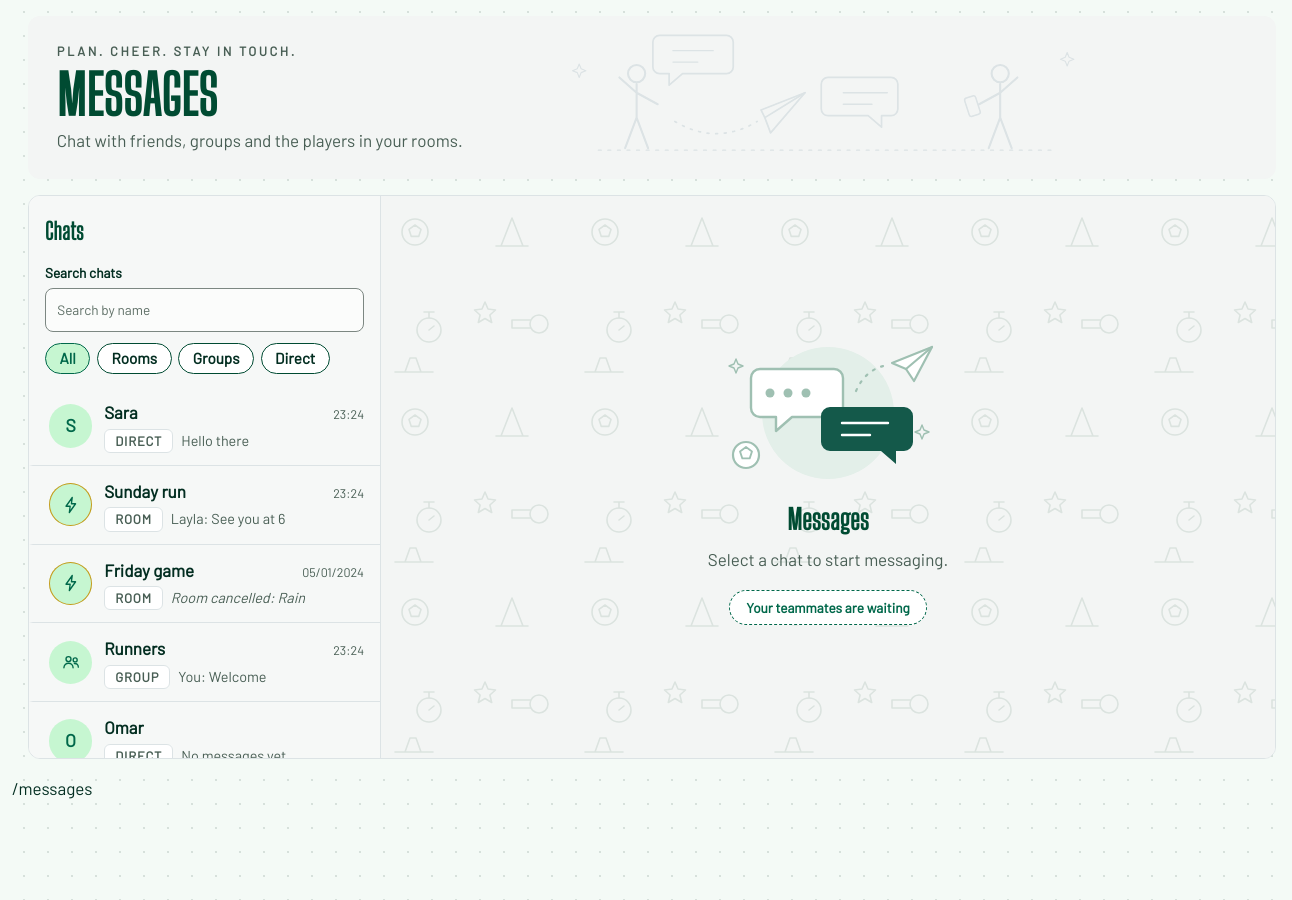
Inbox filters › combines the type and the search and says when nothing matches
This screenshot has width=1292, height=900.
Check: the text "Sara" is shown, box [104,399,138,426]
Click the button "Direct".
click(295, 359)  # box [260,343,330,374]
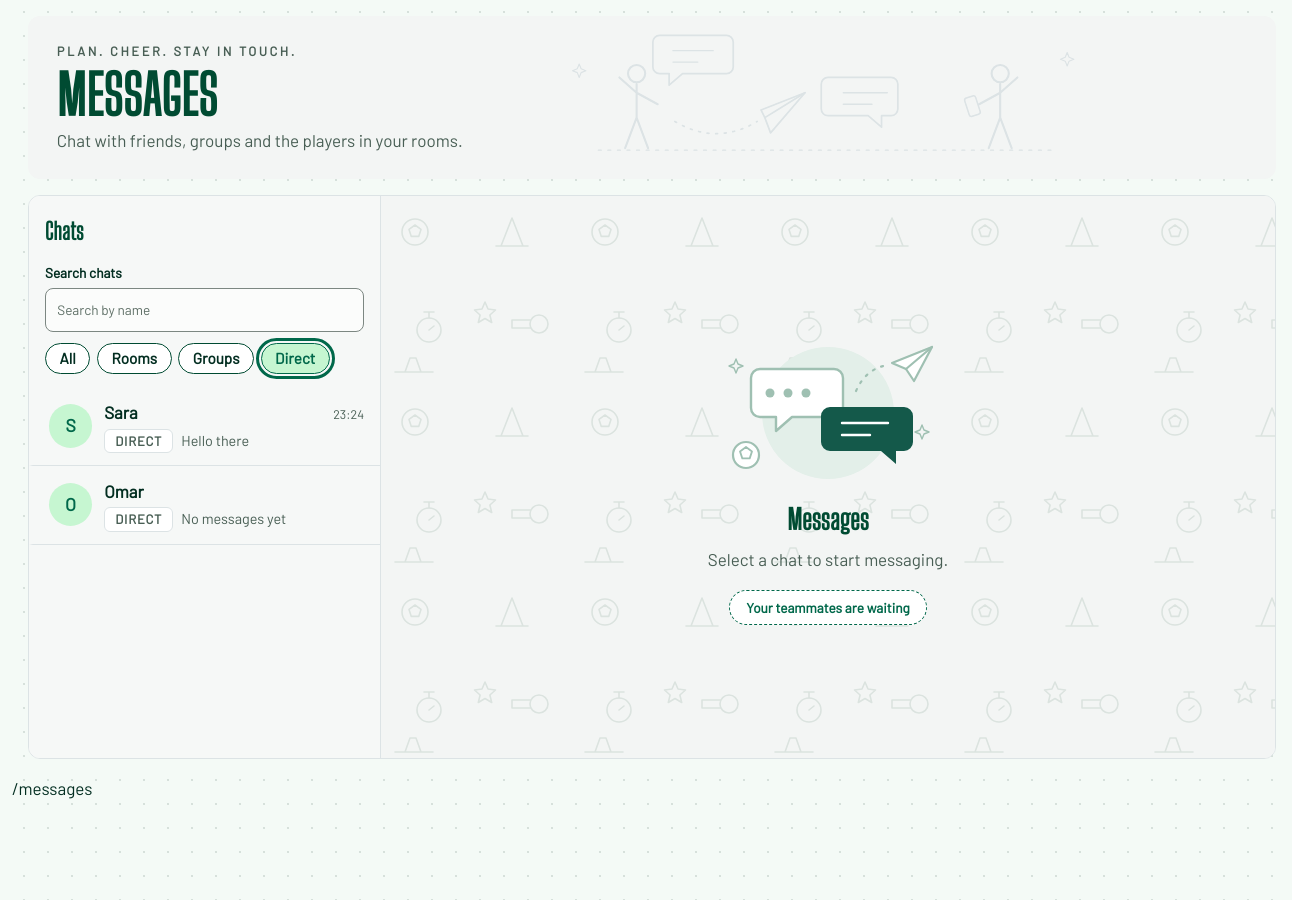
Type "run" into the search field labelled "Search chats".
click(204, 310); type("run")  # box [45,288,364,332]
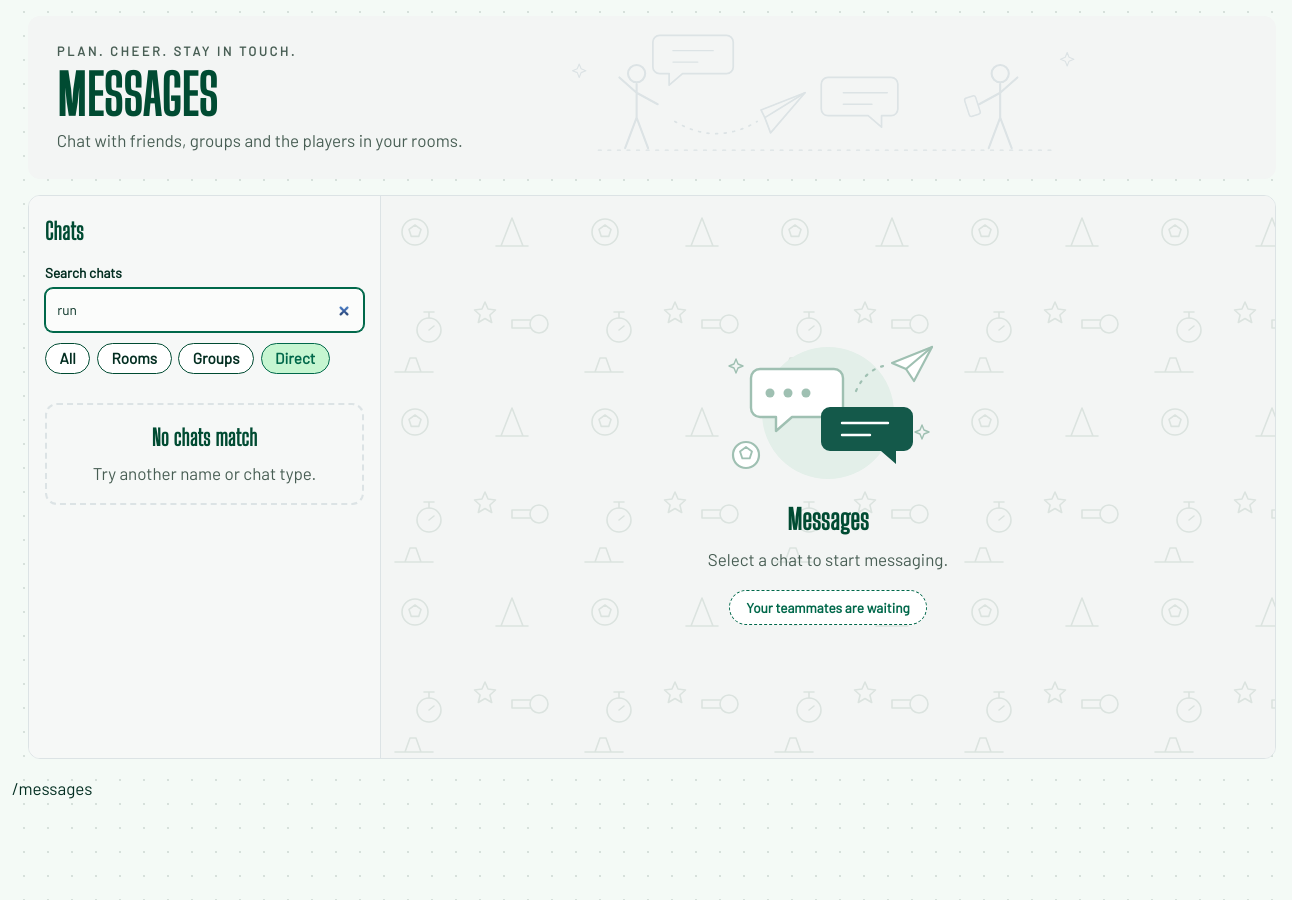
Check: the heading "No chats match" is shown, box [152,421,257,455]
